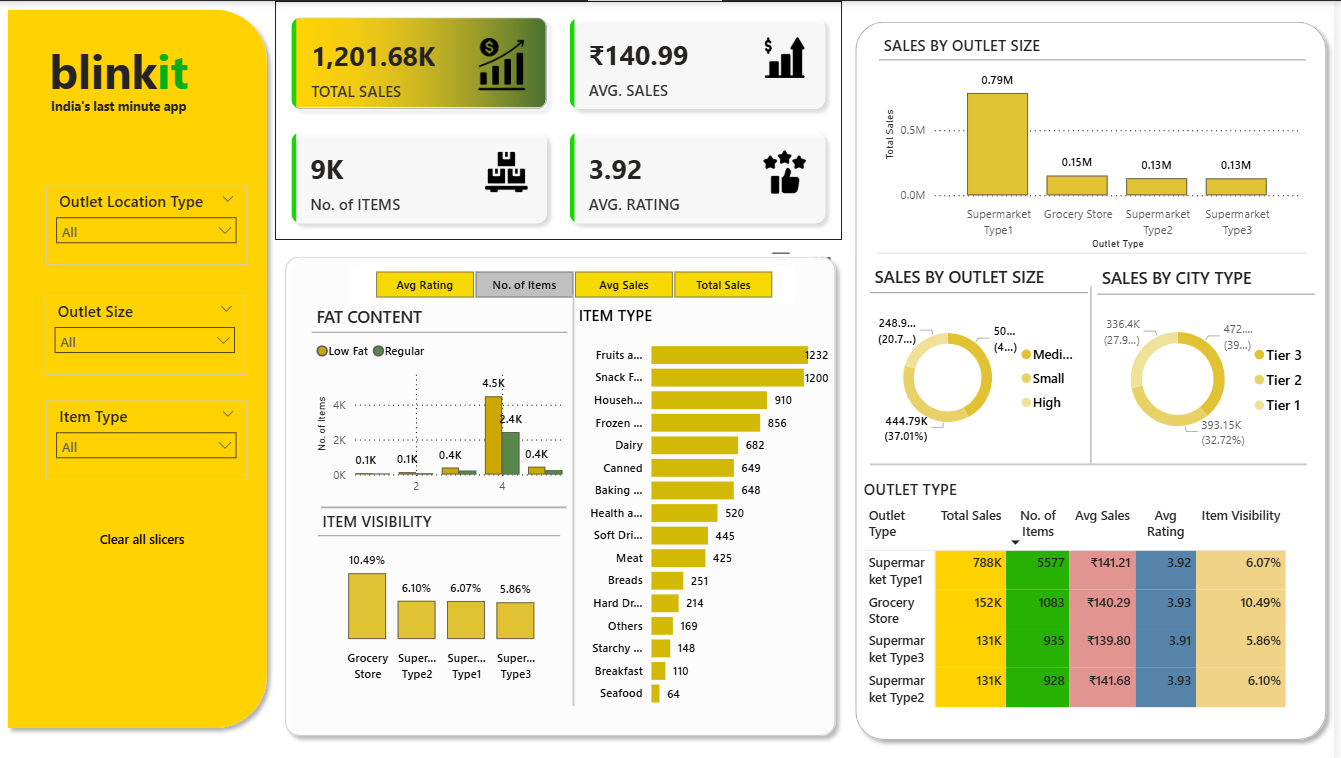

What the dashboard file says about the page in this screenshot:
{"tool":"powerbi","page":{"name":"Page 1","canvas":[1400,800],"ordinal":0},"visuals":[{"type":"shape","box":[0,0,289.9,771.5],"z":0},{"type":"textbox","box":[47.5,35.6,171.2,74.6],"z":1000},{"type":"textbox","box":[49.2,96.6,171.2,40.7],"z":2000},{"type":"cardVisual","fields":{"Data":["BlinkIT Grocery Data.Total Sales","BlinkIT Grocery Data.Avg Sales","BlinkIT Grocery Data.No. of Items","BlinkIT Grocery Data.Avg Rating"]},"box":[289.9,0,595.1,250.9],"z":3000},{"type":"shape","box":[291.4,259.4,595.2,520.6],"z":4000},{"type":"clusteredColumnChart","title":"FAT CONTENT","fields":{"Category":["BlinkIT Grocery Data.Rating"],"Y":["BlinkIT Grocery Data.No. of Items"],"Series":["BlinkIT Grocery Data.Item Fat Content"]},"box":[327.2,318.8,267.9,208.5],"z":5000},{"type":"slicer","fields":{"Values":["Metrices.Metrices"]},"box":[369.6,277.2,465.5,40.9],"z":6000},{"type":"clusteredColumnChart","title":"ITEM VISIBILITY","fields":{"Category":["BlinkIT Grocery Data.Outlet Type"],"Y":["Avg(BlinkIT Grocery Data.Item Visibility)"]},"box":[334,534.1,254.3,186.5],"z":8000},{"type":"shape","box":[337.4,473.1,257.7,115.3],"z":9000},{"type":"shape","box":[384.9,308.6,434.1,430.7],"z":10000},{"type":"barChart","title":"ITEM TYPE","fields":{"Y":["BlinkIT Grocery Data.No. of Items"],"Category":["BlinkIT Grocery Data.Item Type"]},"box":[602.9,318.2,271.9,431.8],"z":11000},{"type":"shape","box":[888.4,12.4,511.7,771.1],"z":12000},{"type":"shape","box":[922.2,113.7,447.8,300.3],"z":13000},{"type":"clusteredColumnChart","title":"SALES BY OUTLET SIZE","fields":{"Y":["BlinkIT Grocery Data.Total Sales"],"Category":["BlinkIT Grocery Data.Outlet Type"]},"box":[922.4,35.6,447.6,228.9],"z":14000},{"type":"shape","box":[913.3,335.8,458.4,300.3],"z":15000},{"type":"shape","box":[888.4,298.5,511.7,186.6],"z":16000},{"type":"pivotTable","title":"OUTLET TYPE","fields":{"Rows":["BlinkIT Grocery Data.Outlet Type"],"Values":["BlinkIT Grocery Data.Total Sales","BlinkIT Grocery Data.No. of Items","BlinkIT Grocery Data.Avg Sales","BlinkIT Grocery Data.Avg Rating","Avg(BlinkIT Grocery Data.Item Visibility)"]},"box":[902.6,501.1,478,266.5],"z":17000},{"type":"slicer","fields":{"Values":["BlinkIT Grocery Data.Outlet Location Type"]},"box":[49.2,193.3,210.2,83.1],"z":18000},{"type":"slicer","fields":{"Values":["BlinkIT Grocery Data.Outlet Size"]},"box":[47.5,308.6,210.2,83.1],"z":19000},{"type":"slicer","fields":{"Values":["BlinkIT Grocery Data.Item Type"]},"box":[49.2,418.8,210.2,83.1],"z":20000},{"type":"actionButton","box":[49.8,538.4,200.8,49.8],"z":21000},{"type":"donutChart","title":"SALES BY CITY TYPE","fields":{"Category":["BlinkIT Grocery Data.Outlet Location Type"],"Y":["Sum(BlinkIT Grocery Data.Sales)"]},"box":[1151.3,278.1,228.9,206.9],"z":22000},{"type":"donutChart","title":"SALES BY OUTLET SIZE","fields":{"Category":["BlinkIT Grocery Data.Outlet Size"],"Y":["Sum(BlinkIT Grocery Data.Sales)"]},"box":[913.9,276.4,228.9,206.9],"z":23000}]}

Visuals, with their boxes in screenshot pixels (x1, y1, x2, y2), scaled from the page's 1400x800 canvas onto the 1341x758 screenshot:
shape: 0:0:278:731
textbox: 45:34:209:104
textbox: 47:92:211:130
cardVisual - BlinkIT Grocery Data.Total Sales x BlinkIT Grocery Data.Avg Sales: 278:0:848:238
shape: 279:246:849:739
"FAT CONTENT" clusteredColumnChart: 313:302:570:500
slicer - Metrices.Metrices: 354:263:800:301
"ITEM VISIBILITY" clusteredColumnChart: 320:506:564:683
shape: 323:448:570:558
shape: 369:292:784:700
"ITEM TYPE" barChart: 577:301:838:711
shape: 851:12:1340:742
shape: 883:108:1312:392
"SALES BY OUTLET SIZE" clusteredColumnChart: 884:34:1312:251
shape: 875:318:1314:603
shape: 851:283:1340:460
"OUTLET TYPE" pivotTable: 865:475:1322:727
slicer - BlinkIT Grocery Data.Outlet Location Type: 47:183:248:262
slicer - BlinkIT Grocery Data.Outlet Size: 45:292:247:371
slicer - BlinkIT Grocery Data.Item Type: 47:397:248:476
actionButton: 48:510:240:557
"SALES BY CITY TYPE" donutChart: 1103:263:1322:460
"SALES BY OUTLET SIZE" donutChart: 875:262:1095:458
